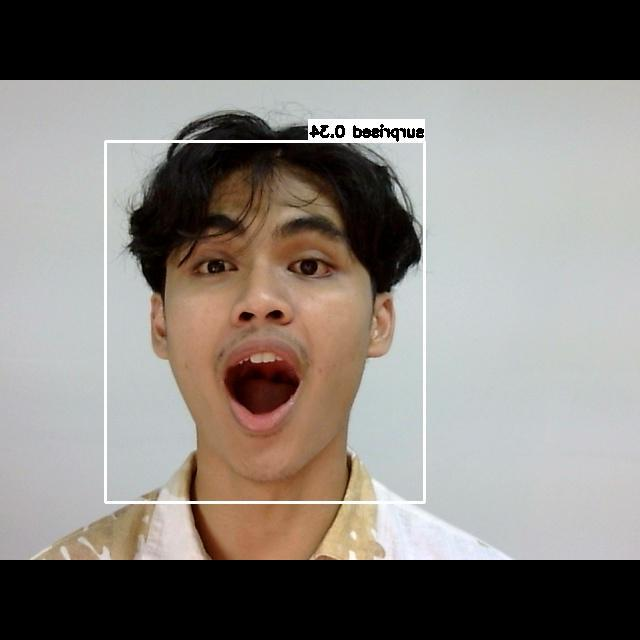Surprised: (150, 172, 385, 463)
